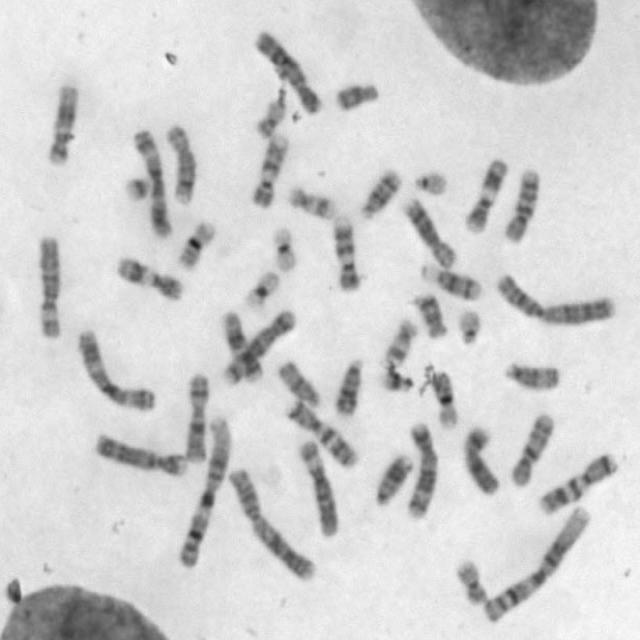A1: (481, 505, 592, 626), (178, 416, 232, 570)
A2: (226, 465, 319, 584), (493, 271, 618, 328)
A3: (76, 327, 160, 414), (131, 127, 173, 241)
B4: (252, 30, 323, 116), (94, 431, 188, 479)
B5: (222, 309, 299, 386), (405, 421, 440, 522)
C10: (509, 410, 556, 489), (503, 169, 542, 245)
C11: (114, 254, 184, 303), (463, 158, 508, 234)
C12: (220, 308, 266, 385), (46, 82, 82, 167)
C6: (296, 439, 340, 540), (39, 234, 64, 341)
C7: (536, 452, 618, 516), (285, 399, 359, 468)
C8: (402, 198, 459, 270), (165, 123, 200, 208)
C9: (250, 132, 290, 210), (332, 215, 362, 292)
D13: (374, 452, 414, 505), (332, 358, 368, 416)
D14: (416, 262, 486, 302), (357, 169, 402, 222)
D15: (276, 359, 324, 408), (503, 361, 562, 392)
E16: (177, 220, 218, 270), (430, 370, 459, 430)
E17: (384, 316, 419, 367), (288, 188, 336, 220)
E18: (411, 292, 450, 340), (334, 83, 384, 111)
F19: (243, 270, 283, 310), (272, 226, 298, 272)
F20: (454, 559, 488, 608), (255, 100, 288, 138)
G21: (380, 368, 414, 395), (124, 172, 154, 202)
G22: (454, 308, 484, 348), (413, 170, 448, 196)
X: (462, 426, 503, 498), (184, 371, 212, 466)
